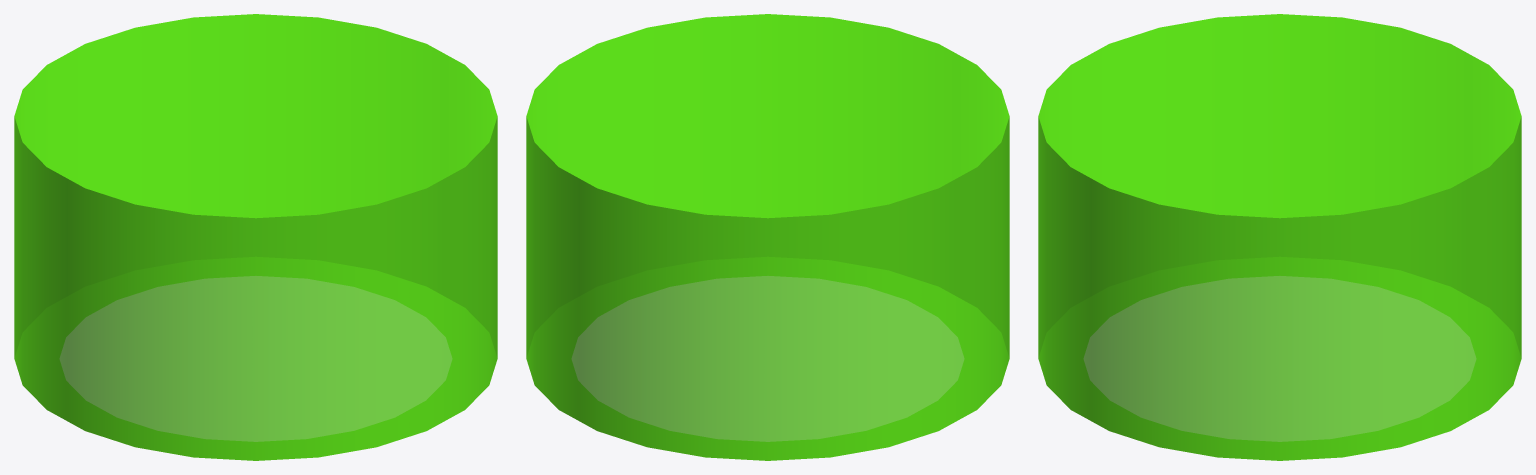
File: original-4.obj
3 renders of one model, left to right at view 1: azimuth 30°, elevation 25°; view 2: azimuth 150°, elevation 25°; view 3: azimuth 270°, elevation 25°, orthographic.
Parts seen in each view (by area): view 1: Group3/mesh6/mesh6-geometry#mesh6-geometry; view 2: Group3/mesh6/mesh6-geometry#mesh6-geometry; view 3: Group3/mesh6/mesh6-geometry#mesh6-geometry.
Boxes of the visible parts, <box> form: Group3/mesh6/mesh6-geometry#mesh6-geometry: <box>14,14,497,460</box>; Group3/mesh6/mesh6-geometry#mesh6-geometry: <box>526,14,1009,460</box>; Group3/mesh6/mesh6-geometry#mesh6-geometry: <box>1038,14,1521,460</box>.
Size of the model in its own units: 0.3654 by 0.2026 by 0.3654.
